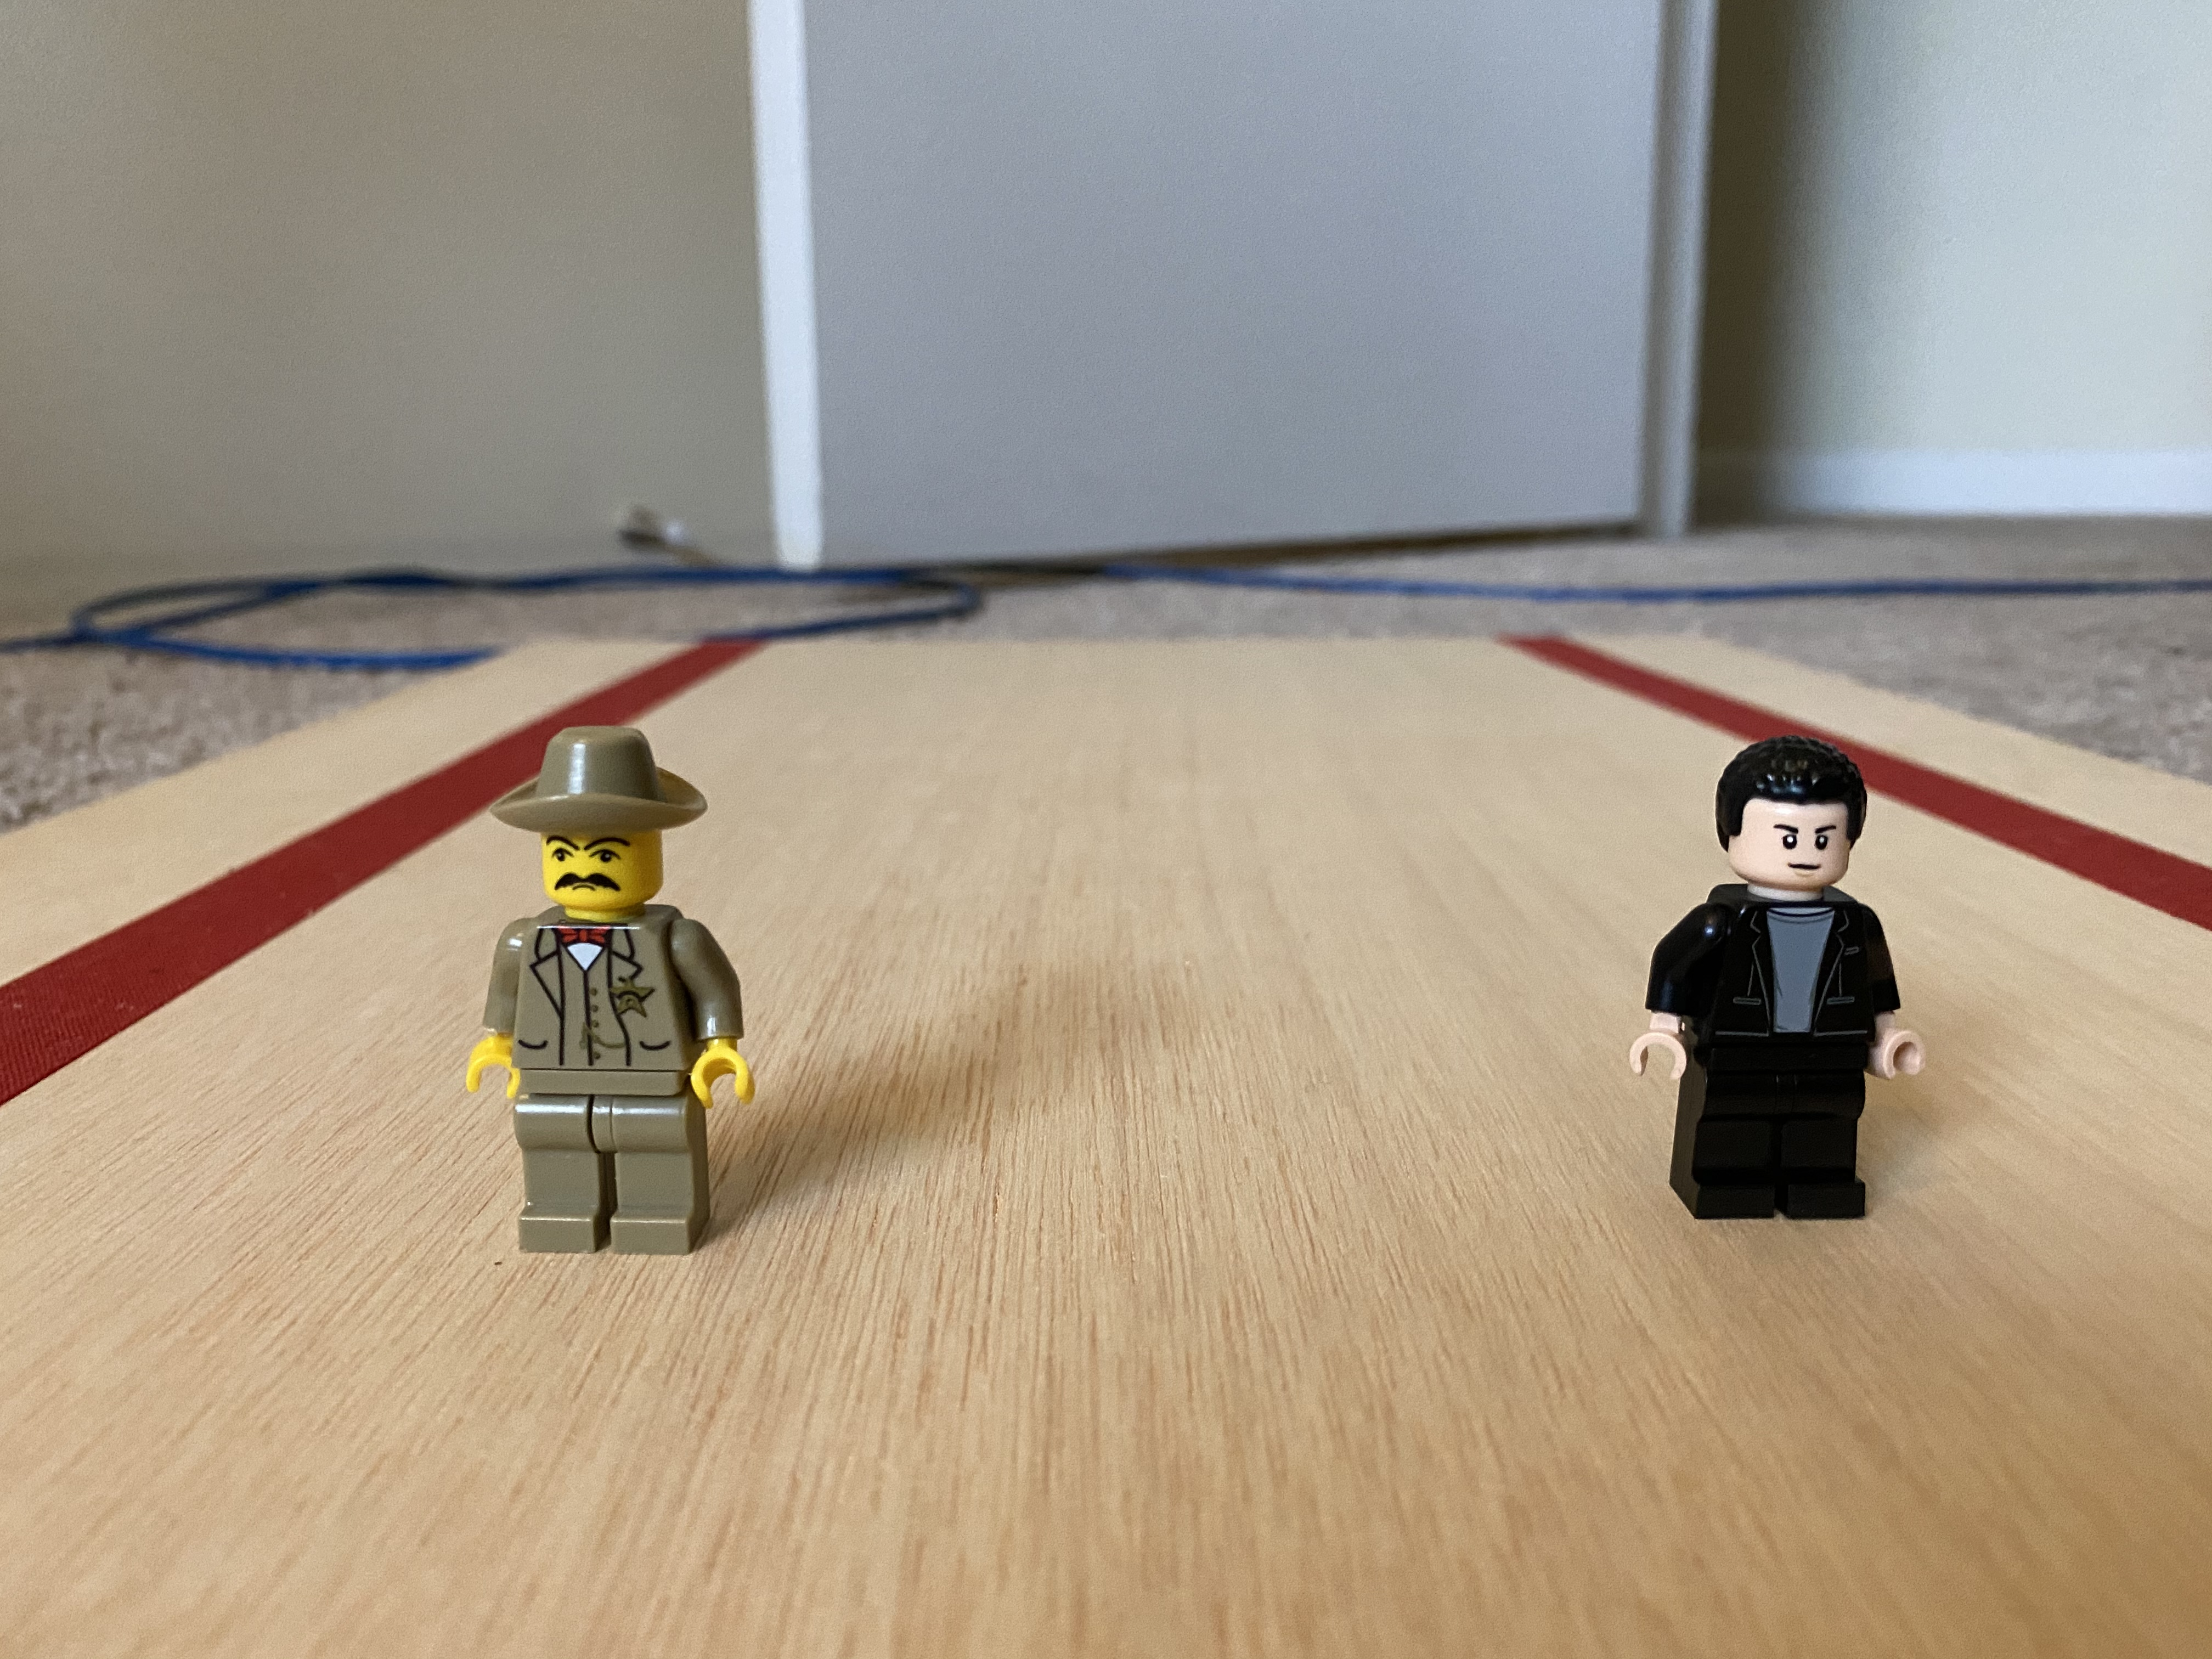Person: (1595, 720, 1970, 1273), (452, 706, 800, 1286)
